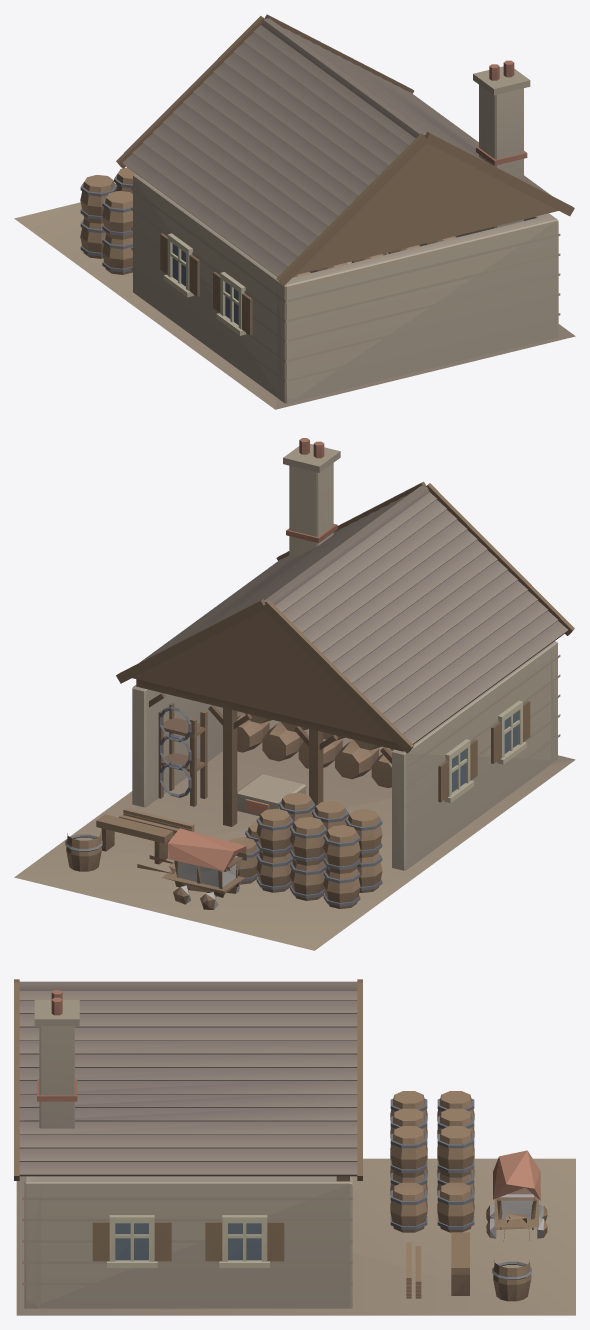
The model's file is cooperage.glb.
3 renders of one model, top to bottom at view 1: azimuth 30°, elevation 25°; view 2: azimuth 150°, elevation 25°; view 3: azimuth 270°, elevation 25°, orthographic. The views are drawn at different scales.
Visible parts, largest first — view 1: cooperage; view 2: cooperage; view 3: cooperage.
Part boxes in pixels (box(x1,y1,x2,y2)): cooperage: box(14, 14, 575, 409); cooperage: box(14, 438, 575, 950); cooperage: box(14, 979, 575, 1315).
Size of the model in its own units: 3.96 by 3.44 by 5.99.
